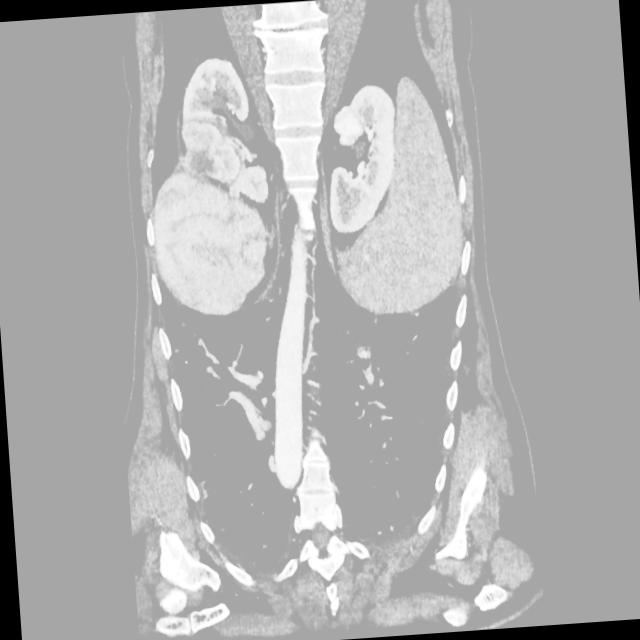TUMOR: (19, 63, 524, 429)
